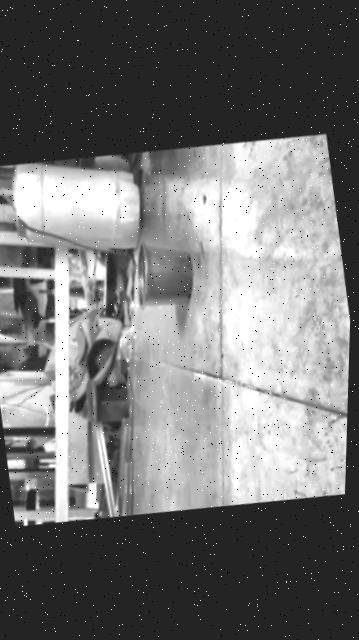pot: (126, 236, 196, 313)
